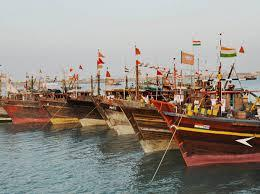fishing boat: (149, 80, 260, 168), (0, 80, 49, 127), (49, 80, 74, 127)
